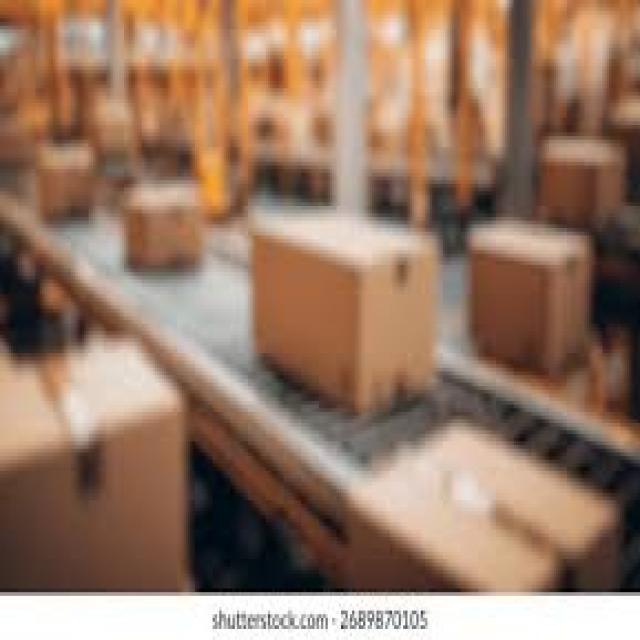box: (0, 343, 188, 592), (348, 423, 620, 592), (253, 214, 438, 411), (470, 221, 593, 375), (541, 137, 626, 228), (125, 181, 203, 268), (38, 144, 95, 220), (609, 96, 639, 202), (91, 96, 135, 161), (0, 115, 35, 165)
